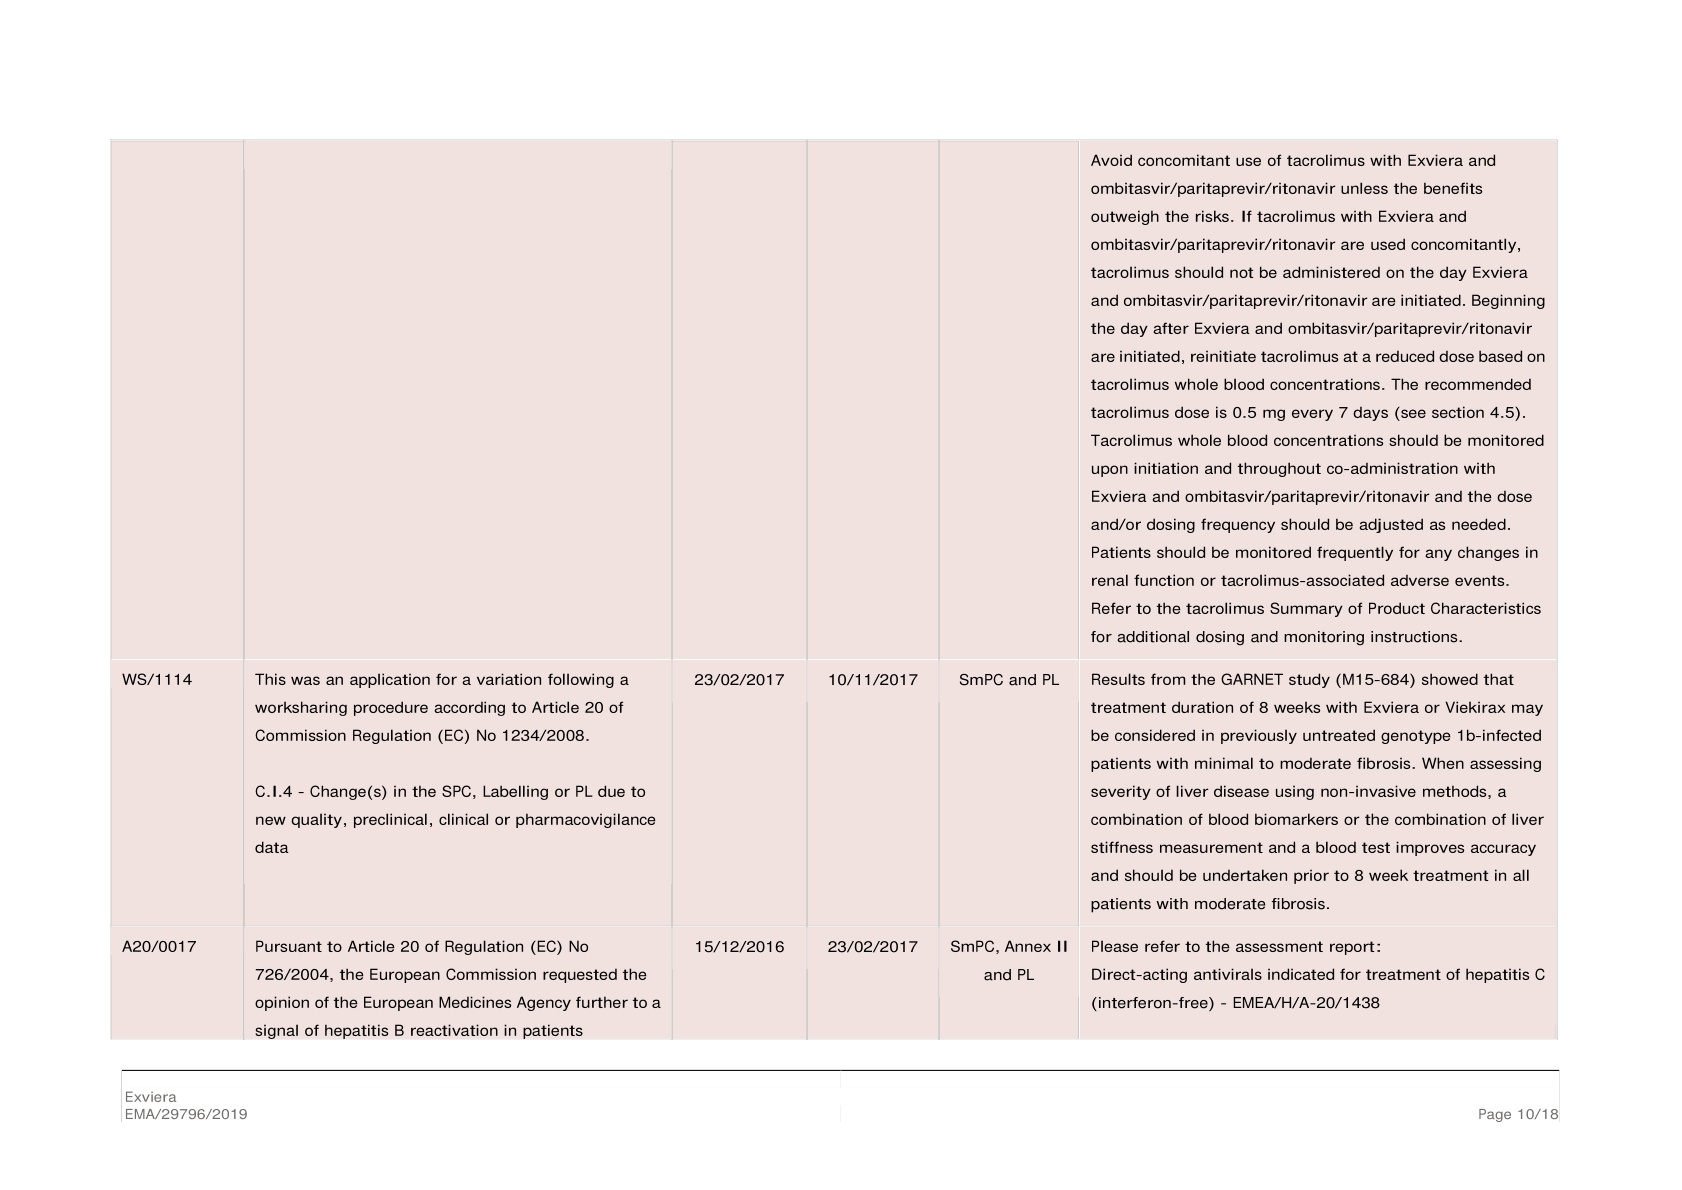full_lined: (109, 138, 1560, 1042)
